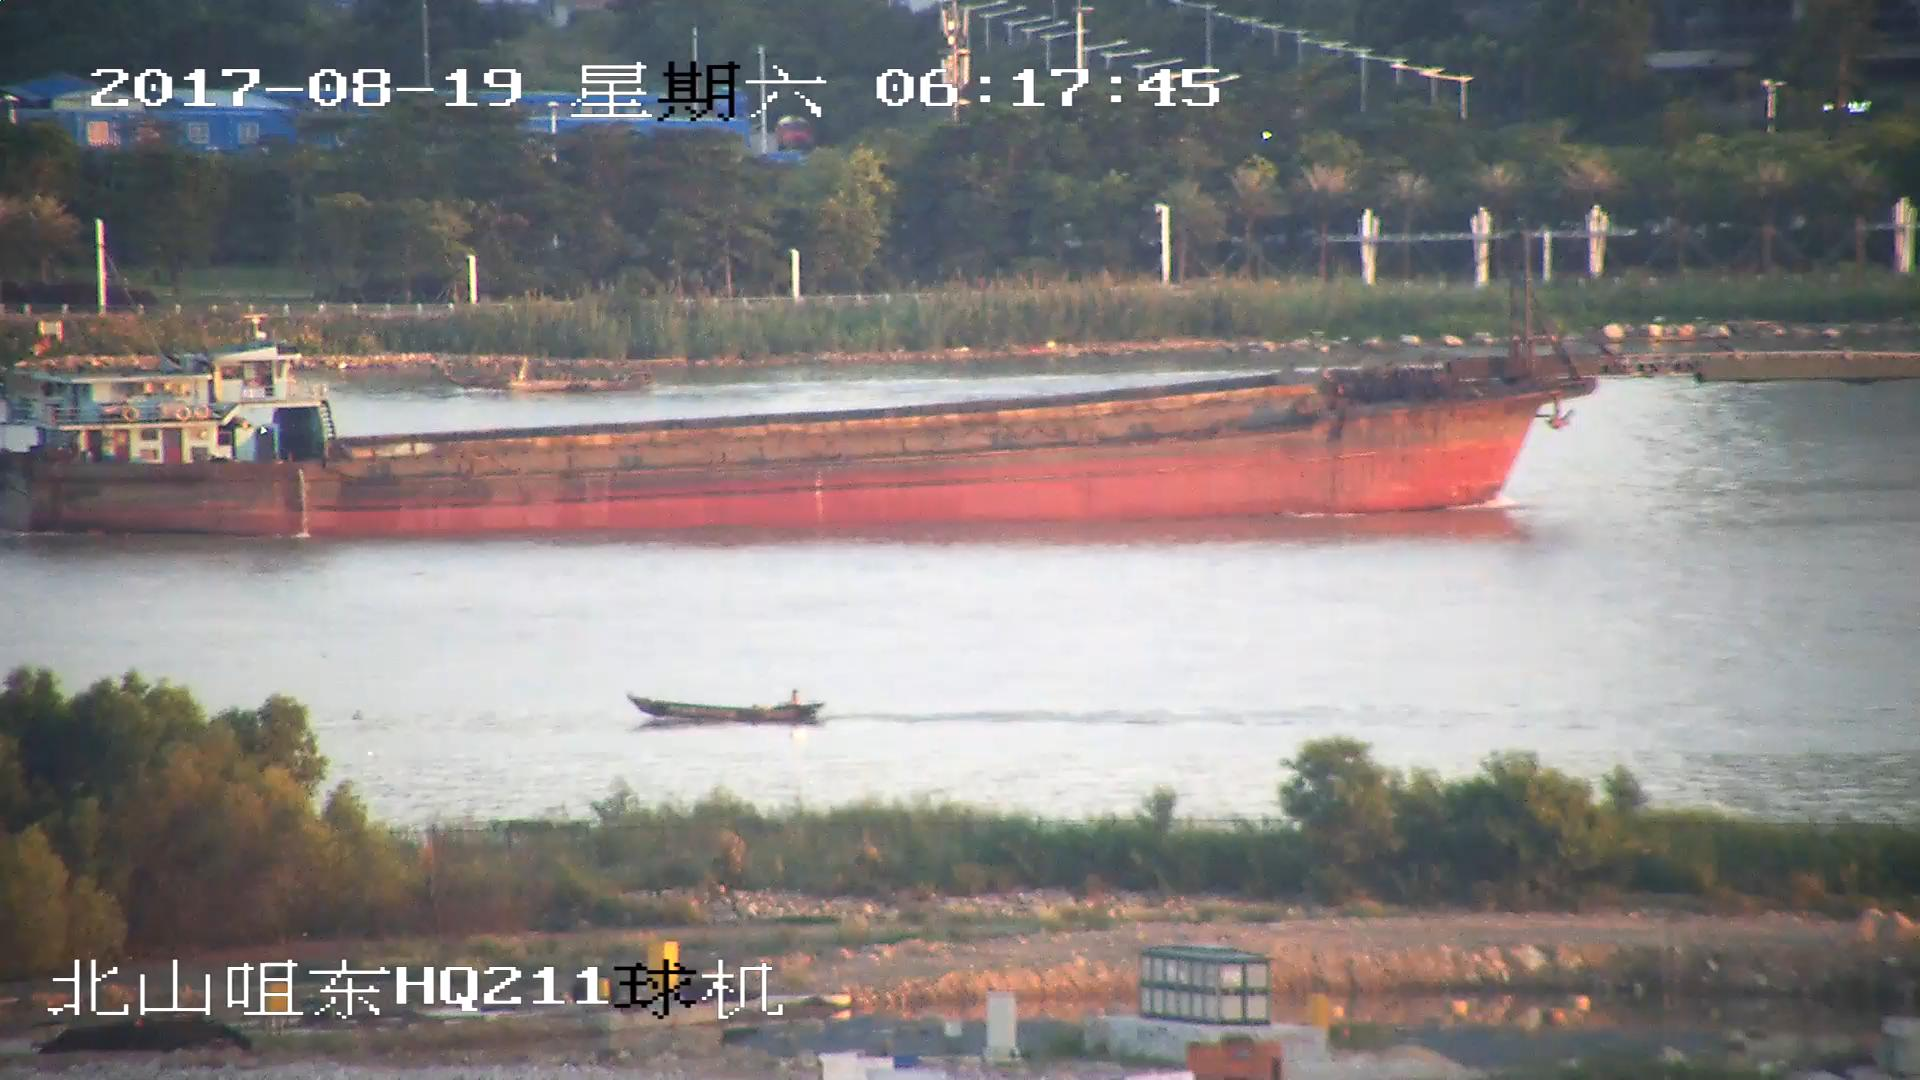bulk cargo carrier: (1, 231, 1920, 538)
fishing boat: (627, 688, 825, 726)
